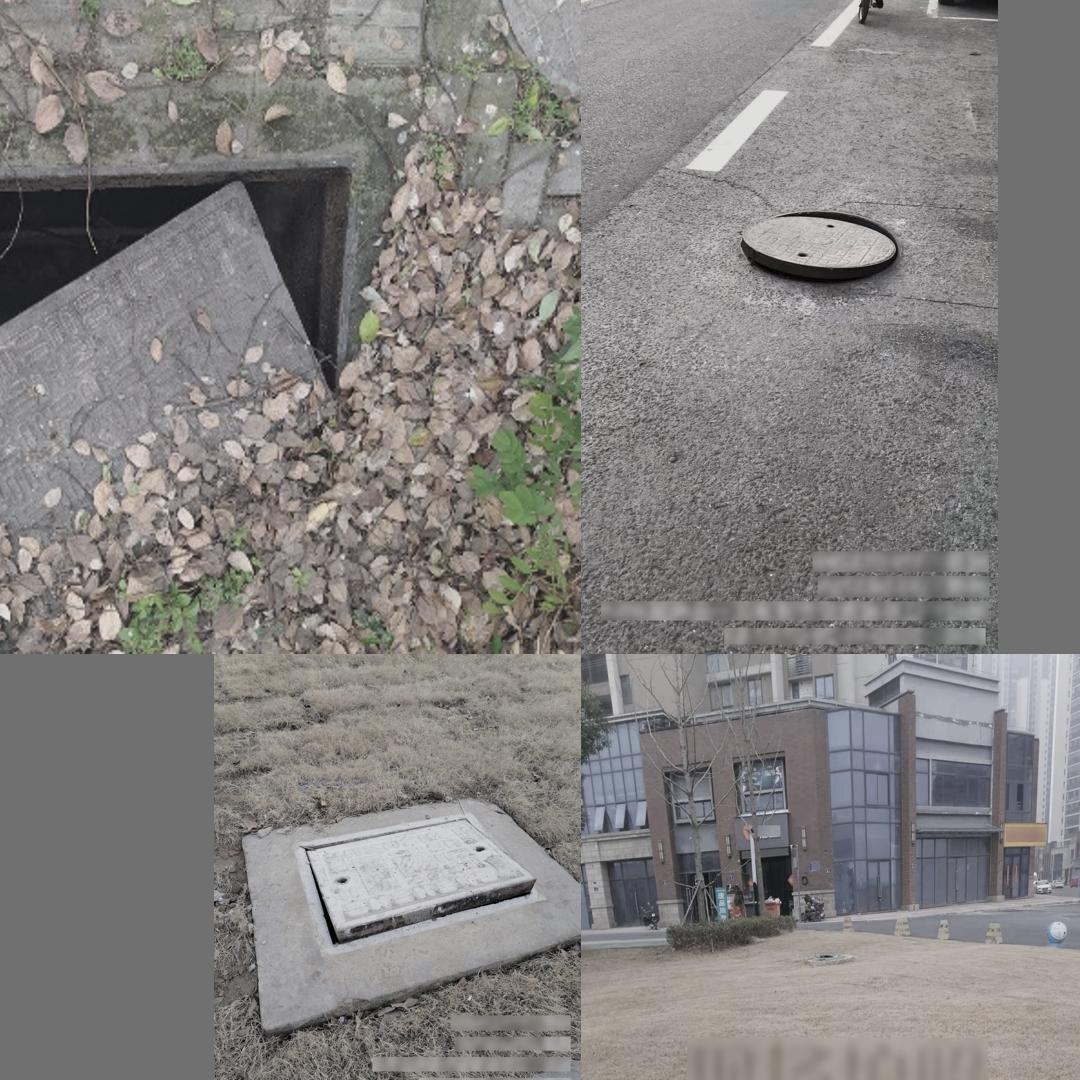lose: (0, 187, 444, 649)
uncovered: (292, 811, 550, 954), (737, 207, 903, 284)
